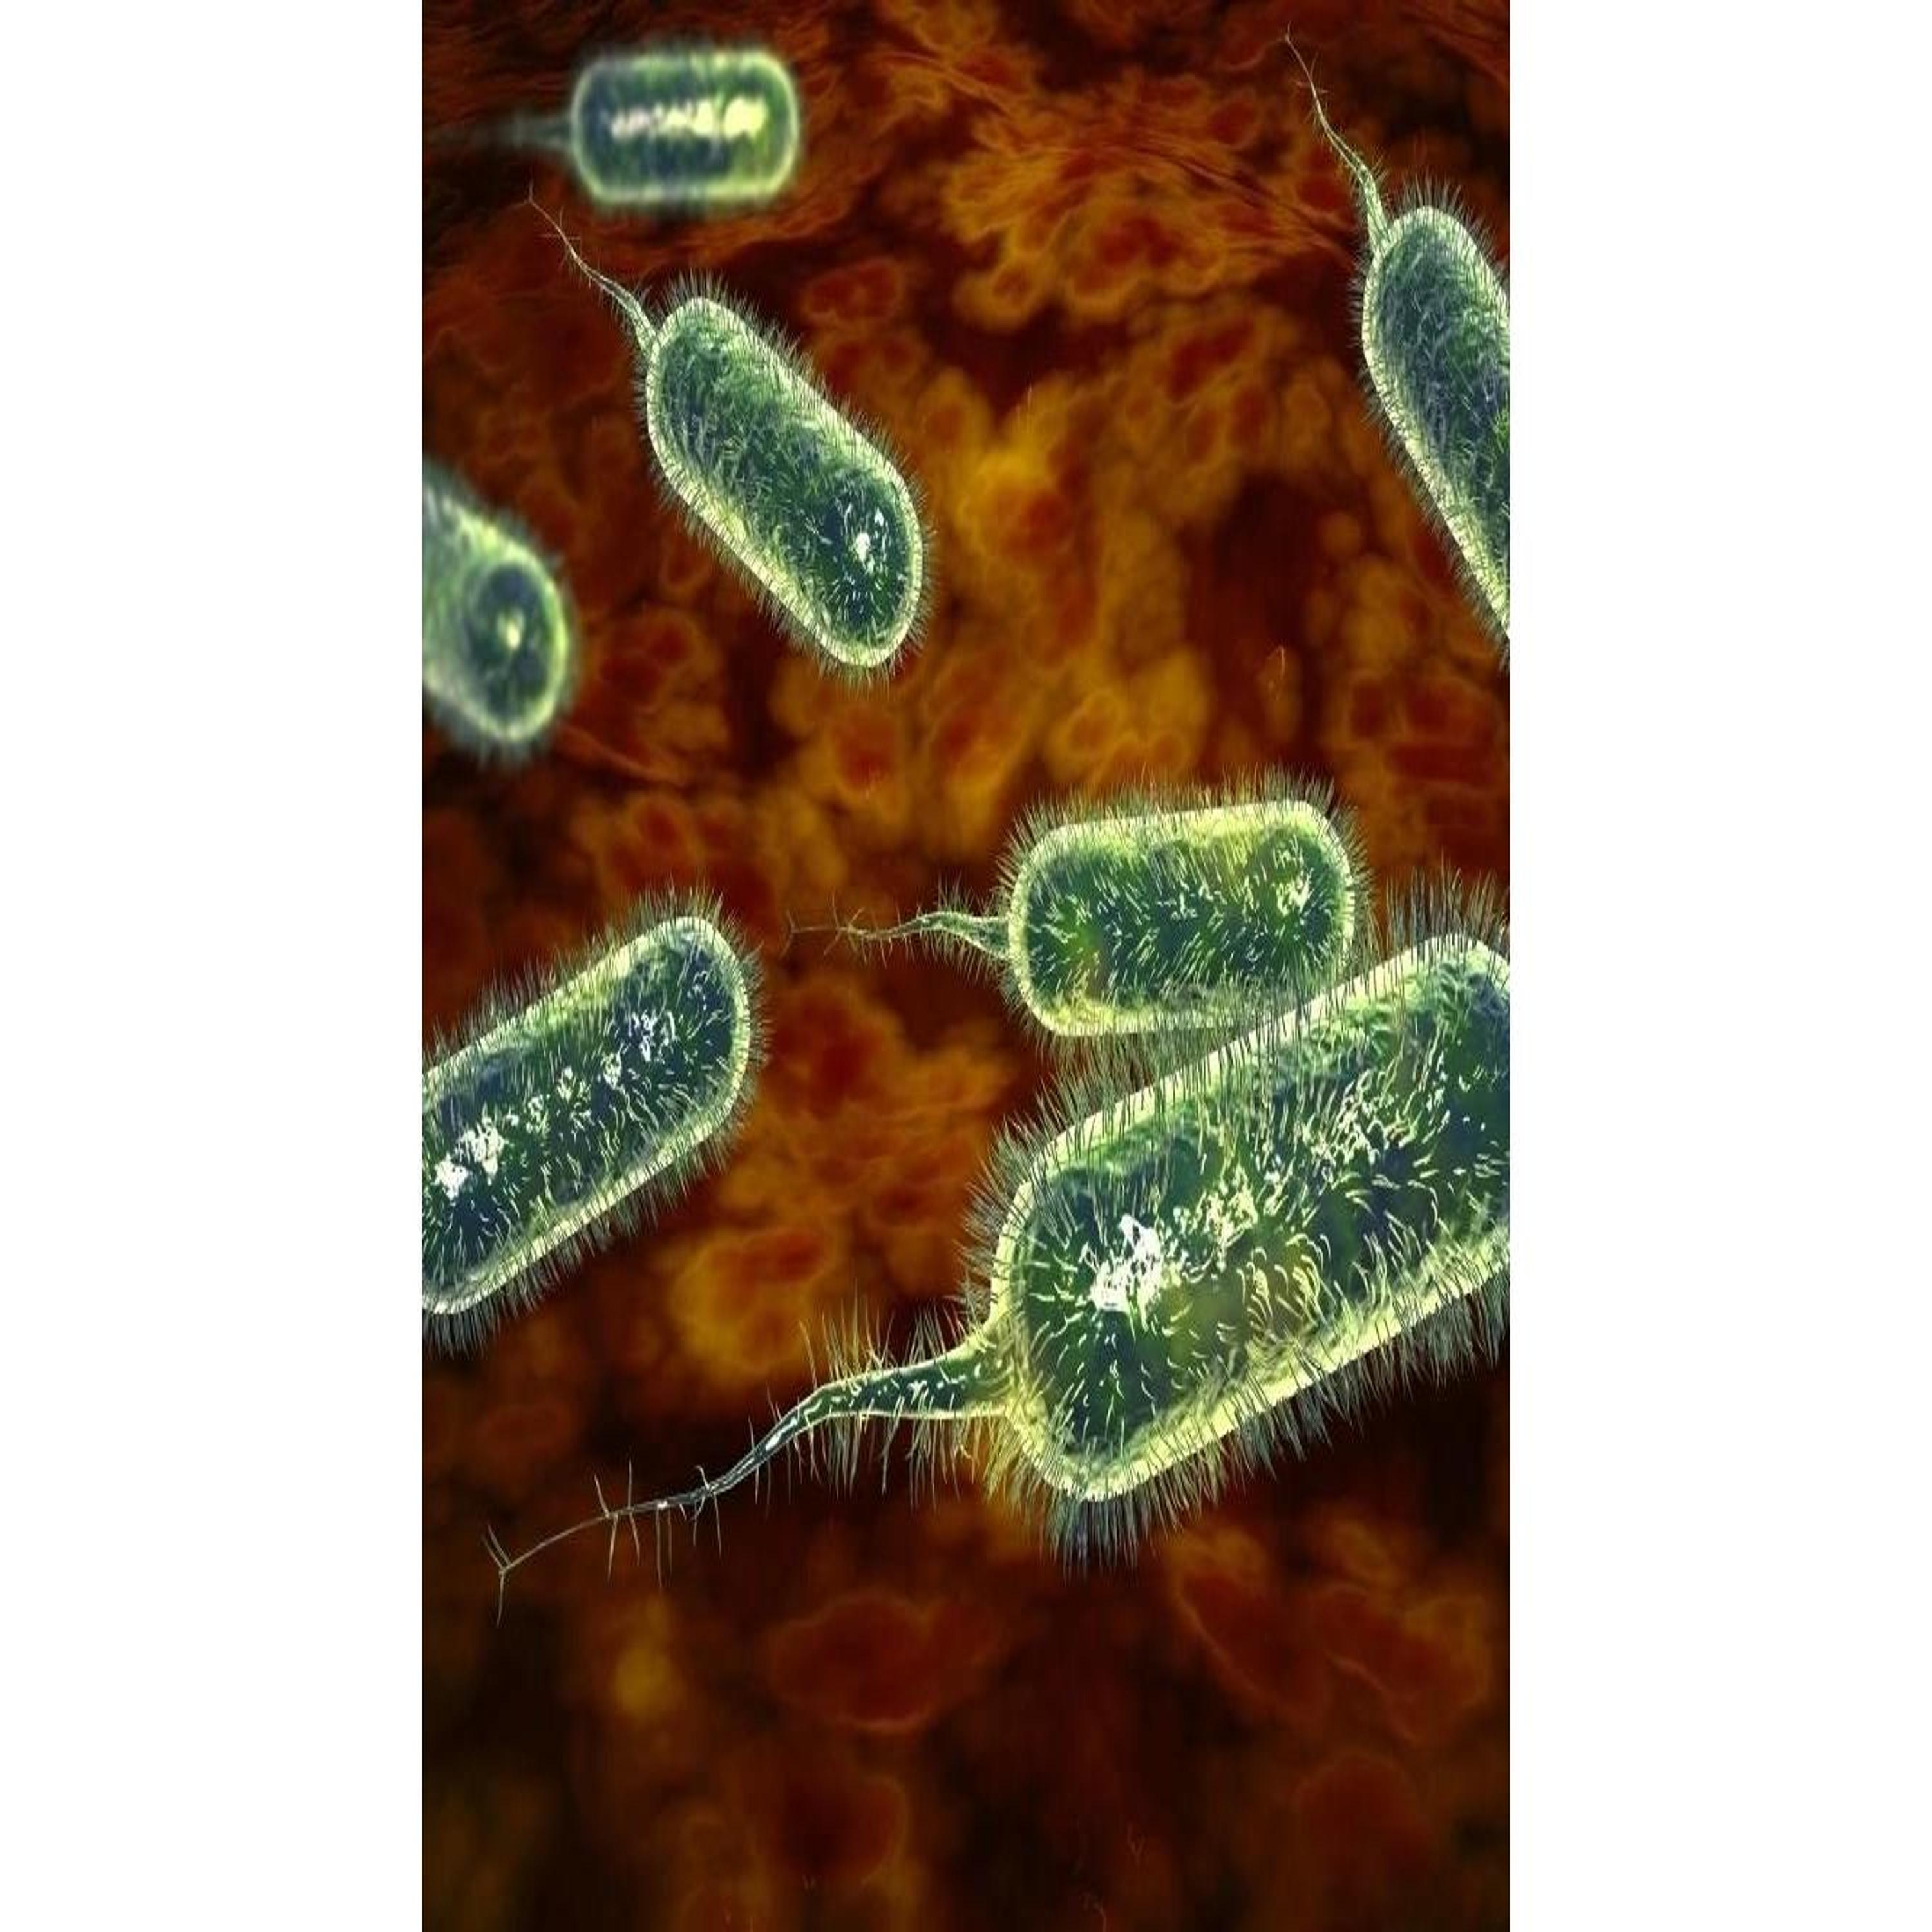Vibrio_cholerae5: (483, 860, 1506, 1626), (538, 198, 943, 699), (787, 766, 1378, 1074), (418, 879, 770, 1355), (497, 34, 810, 218)
